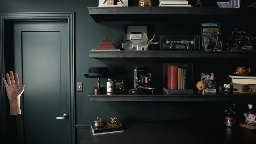Mano_aperta: (1, 70, 25, 101)
